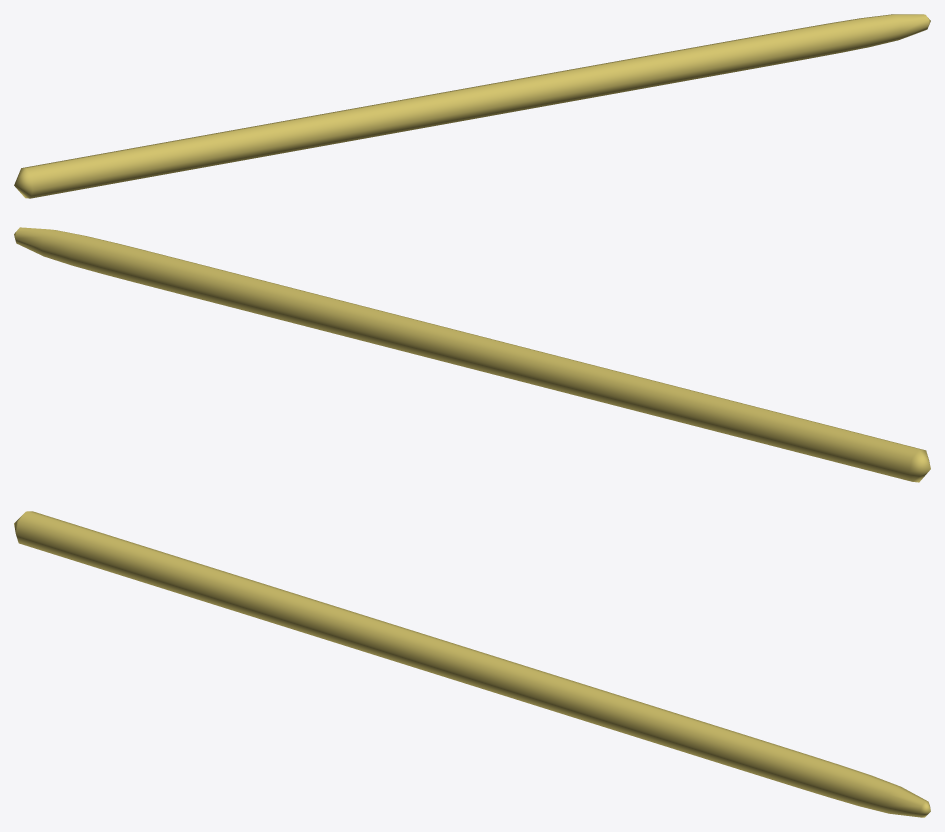
3 renders of one model, top to bottom at view 1: azimuth 30°, elevation 25°; view 2: azimuth 150°, elevation 25°; view 3: azimuth 330°, elevation 25°, orthographic. The views are drawn at different scales.
Parts seen in each view (by area): view 1: brush_Disco_g0_b0; view 2: brush_Disco_g0_b0; view 3: brush_Disco_g0_b0.
Part boxes in pixels (x1,y1,x2,y2): brush_Disco_g0_b0: [14, 14, 930, 198]; brush_Disco_g0_b0: [14, 227, 930, 482]; brush_Disco_g0_b0: [14, 511, 930, 817].
Bounding box in the file's own units: 14.54 × 0.8101 × 1.4.
